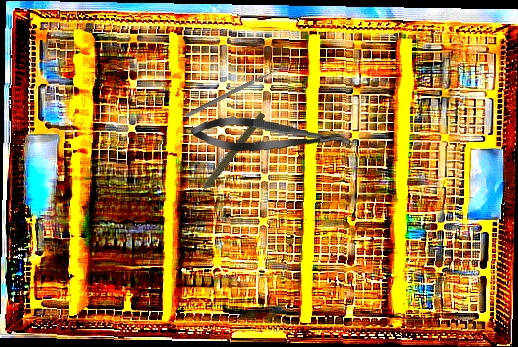Handpiece: (189, 109, 267, 204)
Micro Scissor: (190, 114, 353, 159)
Surgical Spoon: (184, 64, 286, 119)
